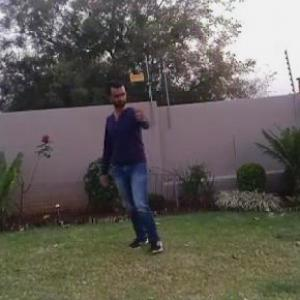takeoff-hand: (130, 98, 154, 125)
